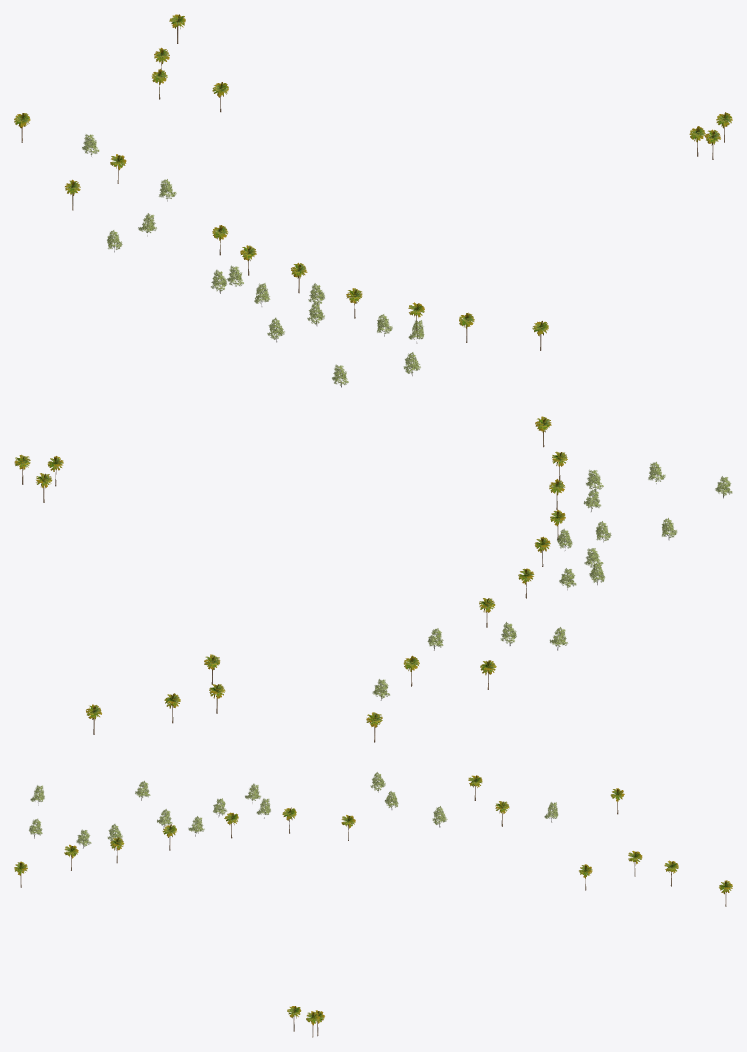
File: env.glb
The picture shows the model from 3 angles, top to bottom: view 1: azimuth 30°, elevation 25°; view 2: azimuth 150°, elevation 25°; view 3: azimuth 270°, elevation 25°; orthographic projection. The views are drawn at different scales.
Parts seen in each view (by area): view 1: tree_env; view 2: tree_env; view 3: tree_env.
Part boxes in pixels (x1,y1,x2,y2): tree_env: [14, 14, 732, 387]; tree_env: [14, 416, 732, 742]; tree_env: [14, 772, 732, 1037].
Bounding box in the file's own units: 235 × 15.45 × 286.
Materials: 4 (4 with a texture image).
